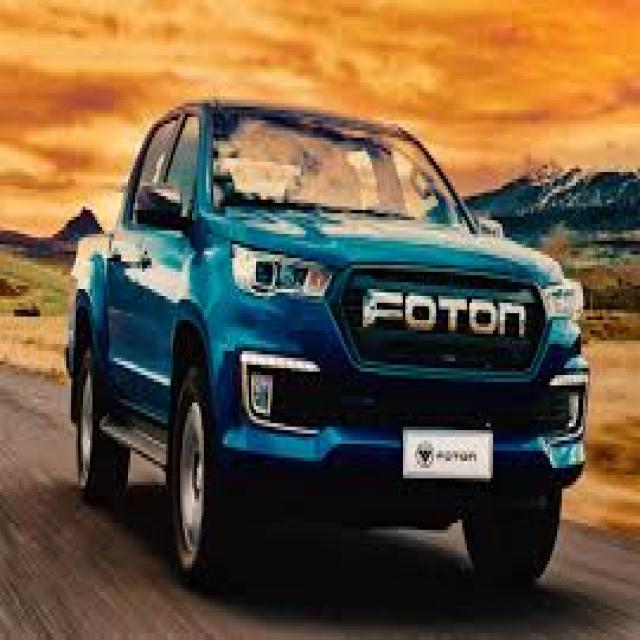CMT: (74, 92, 593, 604)
